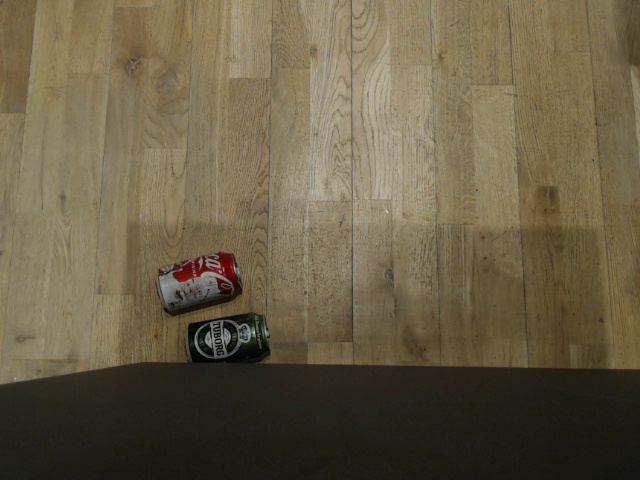beer: (180, 313, 269, 365)
cola: (150, 247, 243, 310)
